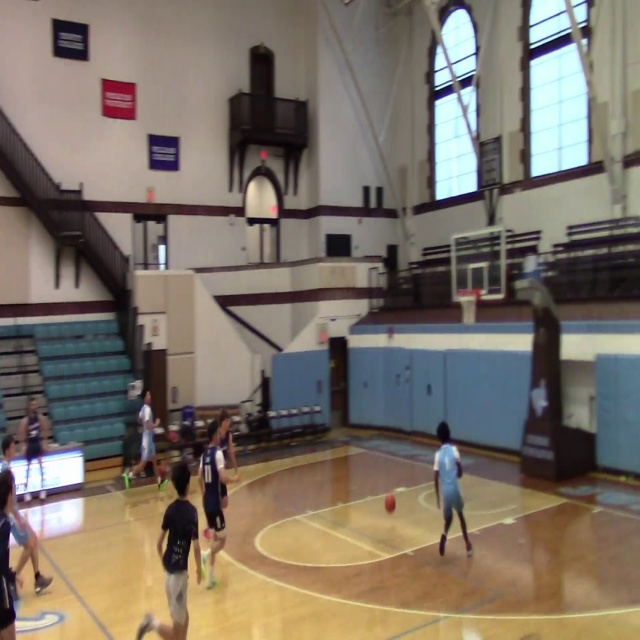Basketball: (384, 494, 395, 512), (203, 528, 213, 540), (158, 464, 168, 475)
